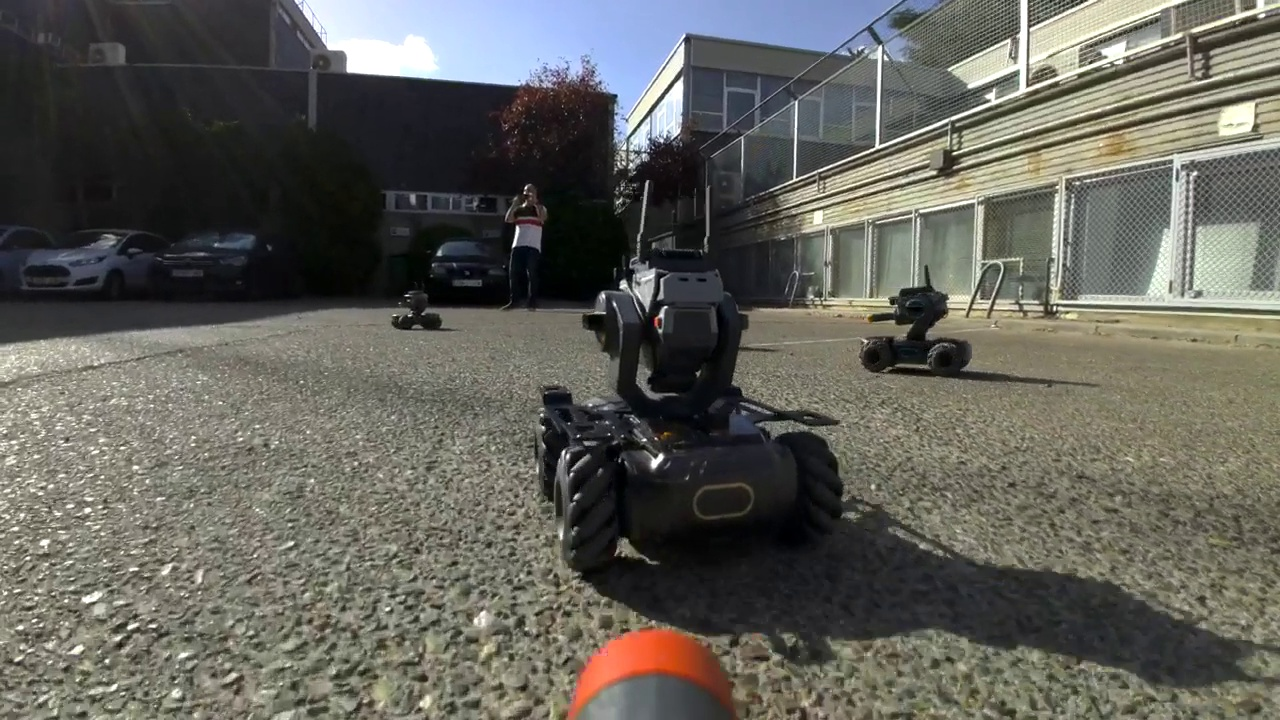robot: (535, 176, 845, 573), (856, 259, 972, 370), (390, 284, 444, 334)
